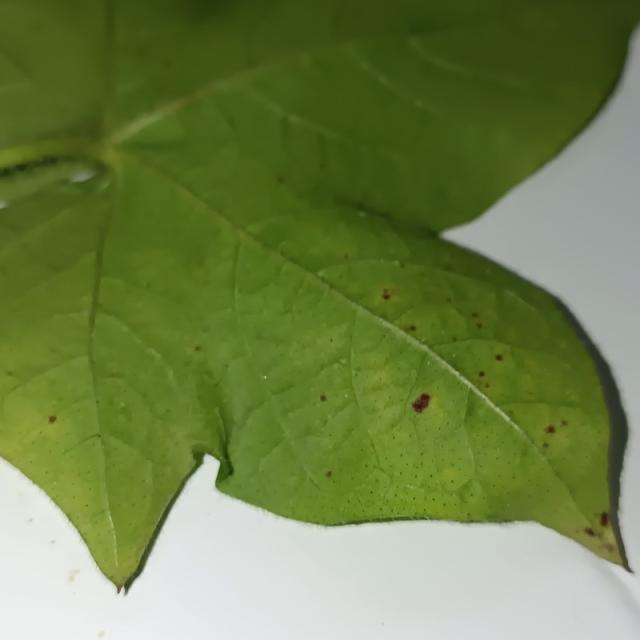Bacterial_Blight: (583, 514, 615, 551), (538, 418, 567, 450), (411, 391, 434, 417), (600, 512, 609, 526), (403, 325, 417, 333), (48, 415, 58, 425), (584, 527, 595, 536), (546, 425, 556, 434), (382, 292, 391, 300), (320, 393, 327, 402), (495, 354, 503, 361), (560, 419, 568, 426), (478, 370, 485, 377), (325, 471, 332, 478), (194, 345, 201, 351), (472, 312, 479, 318), (445, 297, 452, 303), (476, 323, 482, 329)
Cotton: (0, 0, 639, 590)
